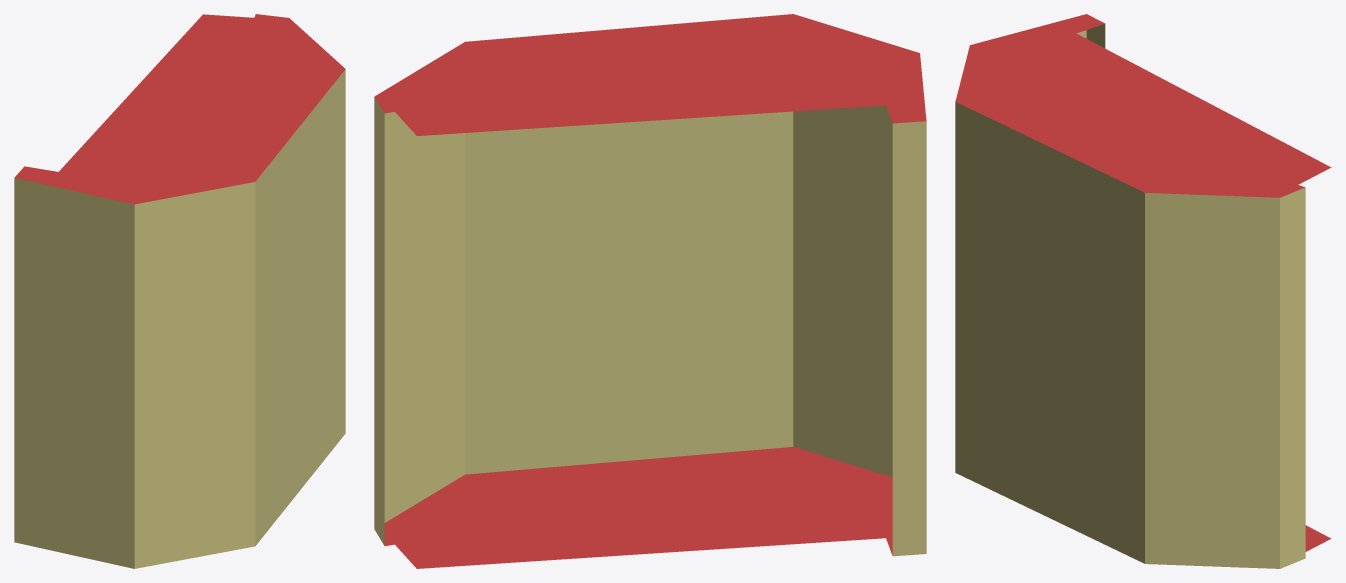
3 renders of one model, left to right at view 1: azimuth 30°, elevation 25°; view 2: azimuth 150°, elevation 25°; view 3: azimuth 270°, elevation 25°, orthographic. The views are drawn at different scales.
Visible parts, largest first — view 1: group_4, group_3; view 2: group_4, group_3, group_5; view 3: group_4, group_3.
Part boxes in pixels (x1,y1,x2,y2): group_4: (14,69,345,568); group_3: (14,14,345,204); group_4: (374,97,926,556); group_3: (374,14,926,135); group_5: (384,447,892,568); group_4: (955,24,1305,568); group_3: (955,14,1331,197).
Size of the model in its own units: 7.97 by 6.89 by 7.5.
